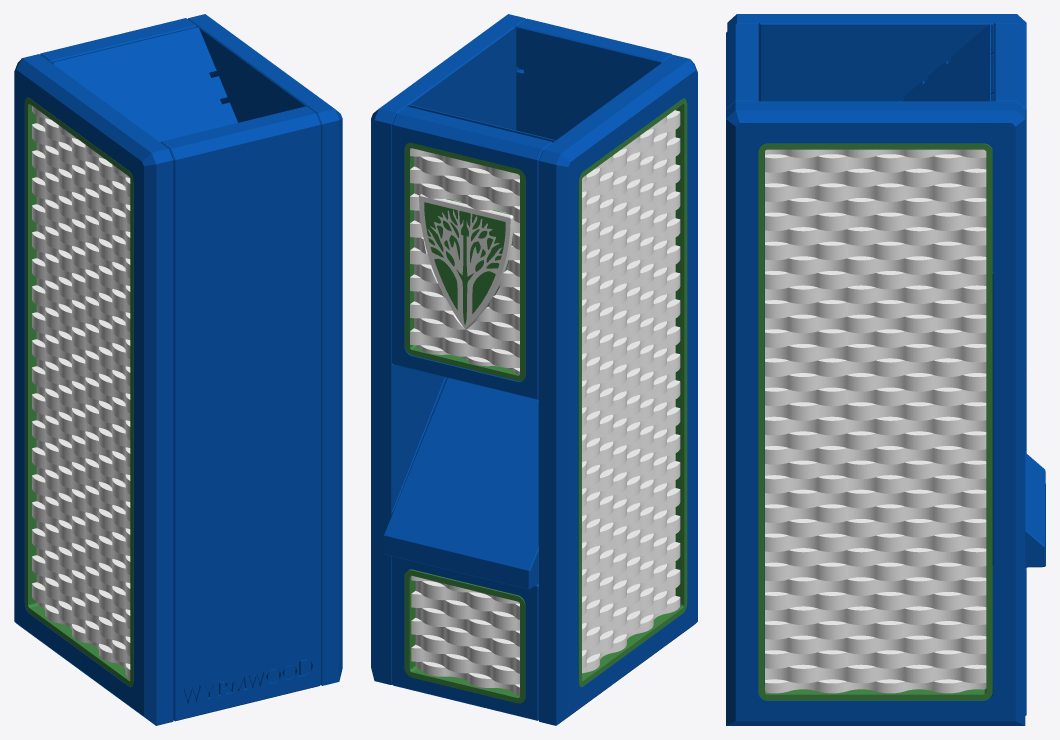
Rendered from Wicker Tower Only-recolored.glb.
3 views of the same model, side by side, from view 1: azimuth 30°, elevation 25°; view 2: azimuth 150°, elevation 25°; view 3: azimuth 270°, elevation 25° (orthographic). The views are drawn at different scales.
Visible parts, largest first — view 1: Assembly_fil5 (×5), Assembly_fil2, Assembly_fil1; view 2: Assembly_fil5 (×6), Assembly_fil2 (×4), Assembly_fil1 (×4); view 3: Assembly_fil2, Assembly_fil5 (×6), Assembly_fil1.
Boxes of the visible parts, x1,y1,x2,y2 form: Assembly_fil5 (×5): [14, 14, 342, 725]; Assembly_fil2: [32, 106, 130, 678]; Assembly_fil1: [25, 97, 133, 686]; Assembly_fil5 (×6): [371, 14, 697, 725]; Assembly_fil2 (×4): [410, 110, 680, 696]; Assembly_fil1 (×4): [404, 98, 687, 703]; Assembly_fil2: [765, 149, 986, 693]; Assembly_fil5 (×6): [726, 14, 1045, 725]; Assembly_fil1: [758, 143, 992, 700].
Size of the model in its own units: 0.0768 by 0.2111 by 0.0994.
